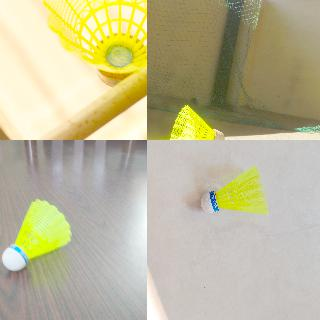shuttlecock: (43, 0, 146, 86), (1, 199, 70, 271), (200, 163, 272, 214), (170, 105, 225, 139)
